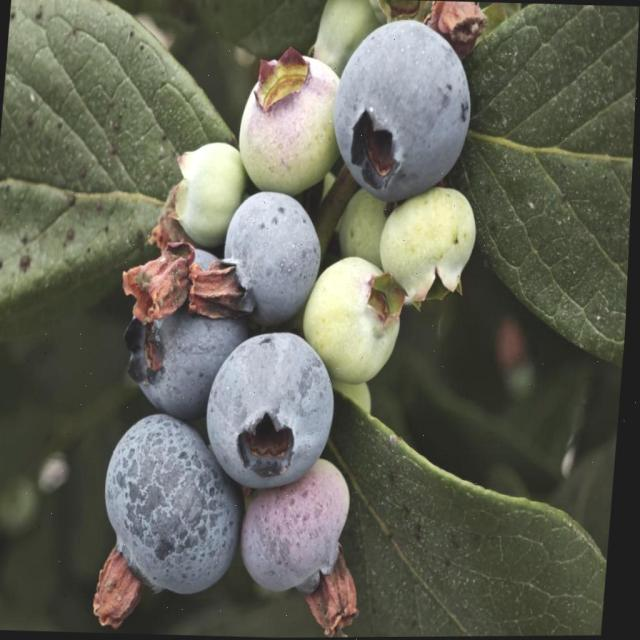RipeBlueBerry: (100, 414, 250, 604), (330, 16, 478, 206), (205, 329, 342, 486), (221, 190, 326, 325)
